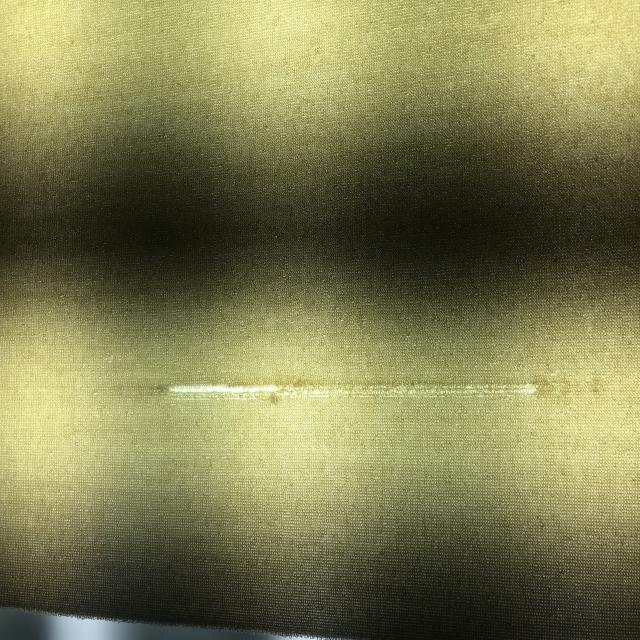Warp_Weft: (92, 380, 599, 406)
